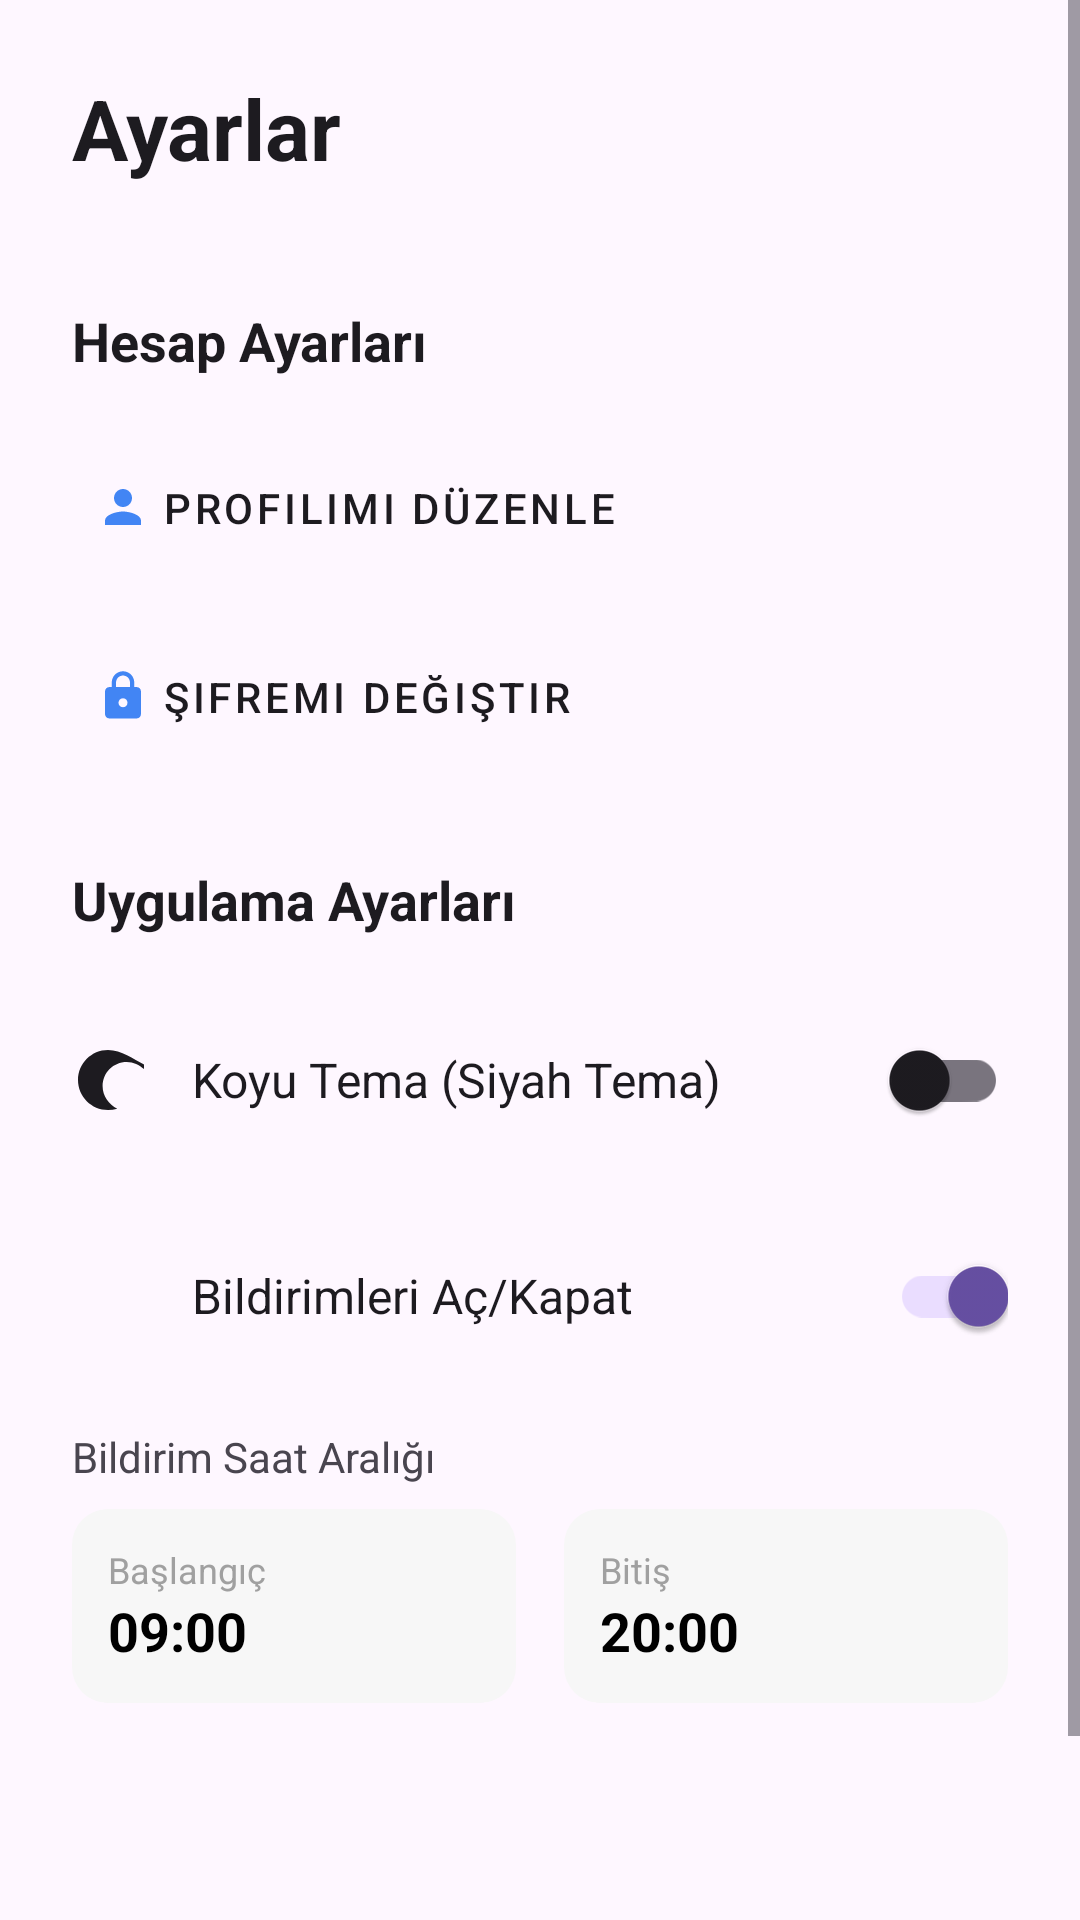

Icon click points for this 1080 x 1920 phone screenshot, format (x=x, y=y):
Koyu Tema İkonu: (x=111, y=1080)
